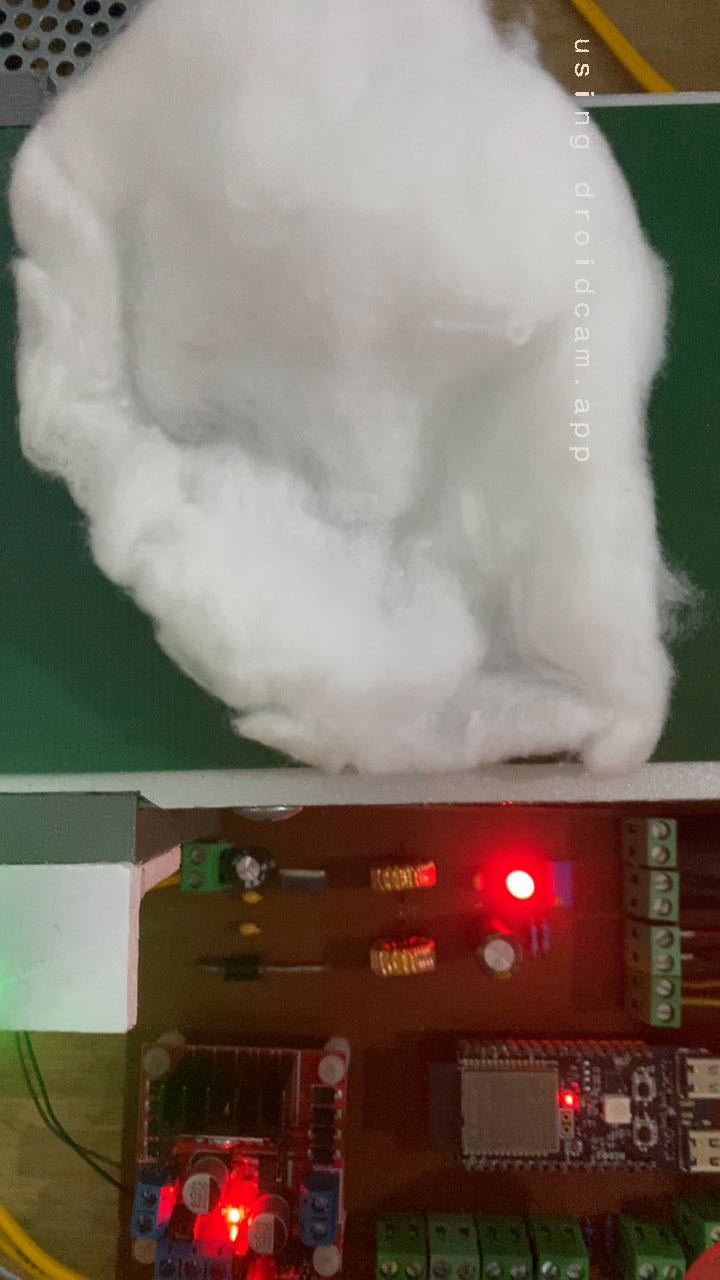cotton: (0, 0, 720, 759)
